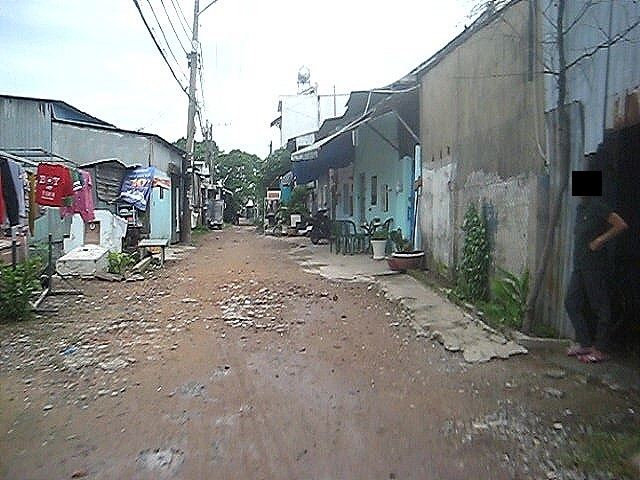hole: (128, 441, 199, 480)
